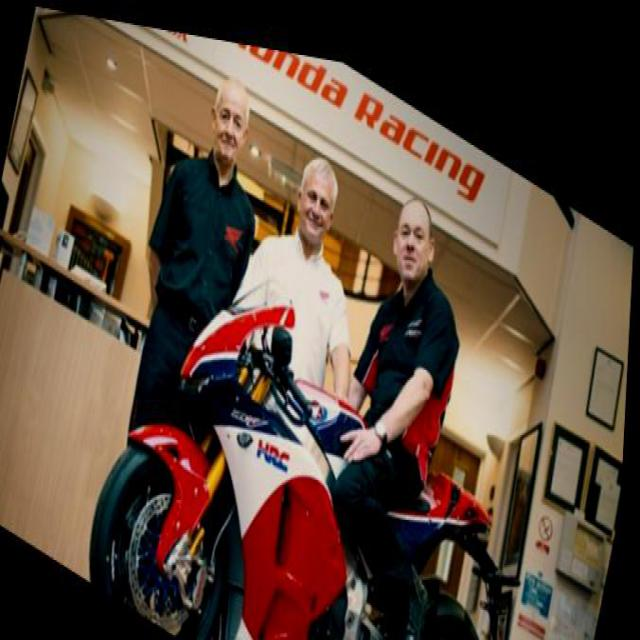HRC RCV 213: (84, 187, 554, 638)
